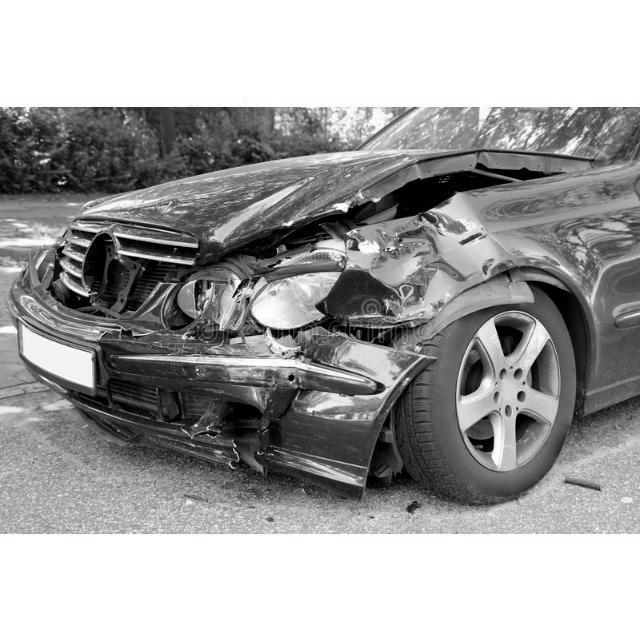bonnet-dent: (57, 148, 456, 254)
fender-dent: (379, 217, 569, 423)
front-bumper-dent: (30, 310, 432, 482)
